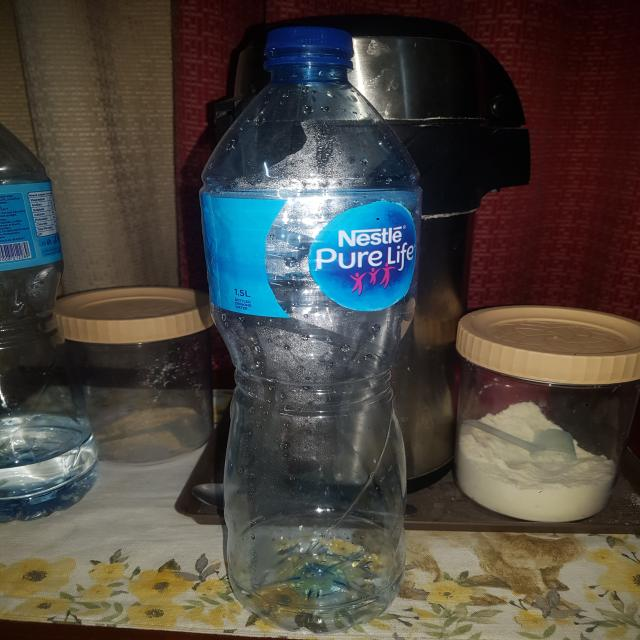general: (198, 25, 424, 632), (305, 13, 532, 493), (452, 304, 639, 522), (0, 121, 99, 522), (54, 284, 217, 464)
